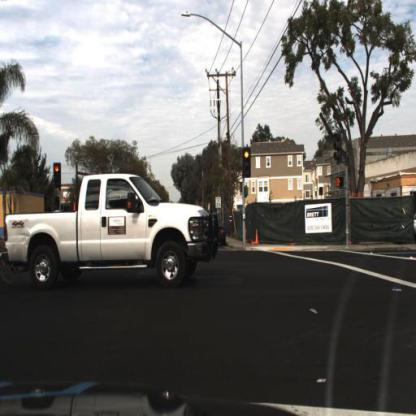car: (3, 173, 221, 294)
trafficLight: (241, 145, 253, 178)
trafficLight-Red: (52, 164, 63, 194)
